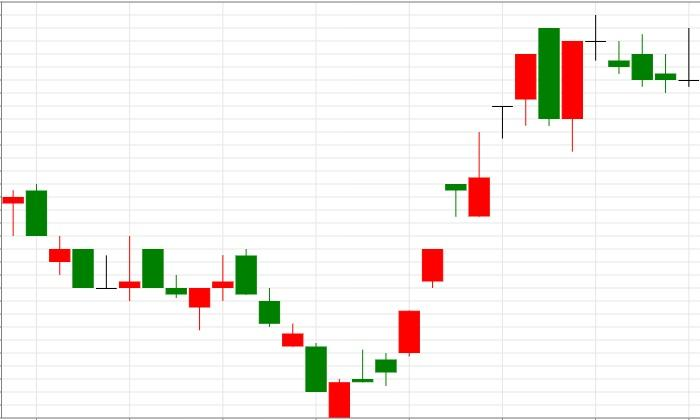bearish_engulfing_fall: (328, 28, 560, 418)
